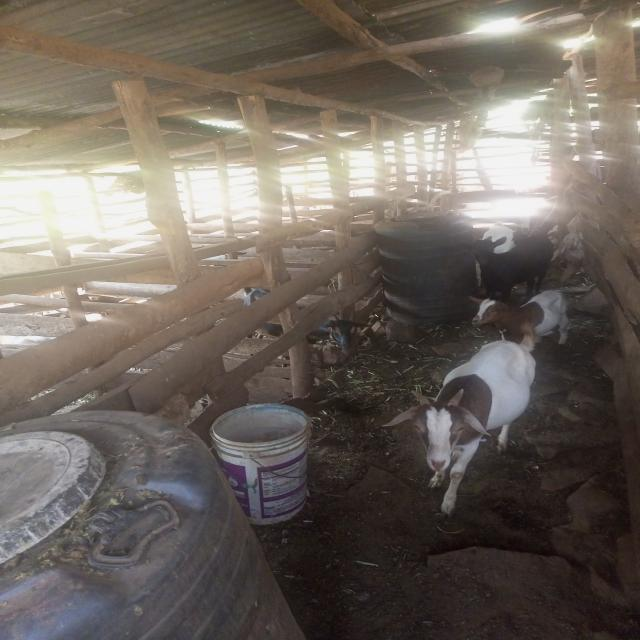goat: (357, 302, 576, 531)
